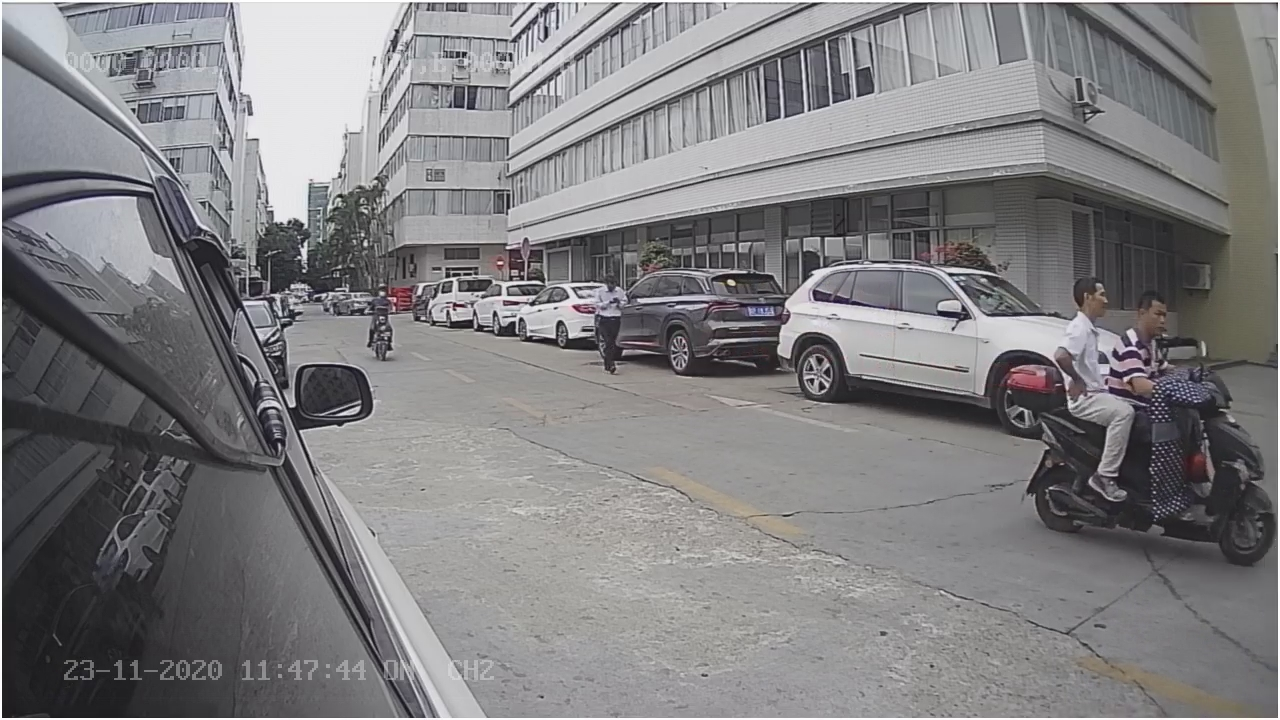person: (1105, 282, 1187, 396)
